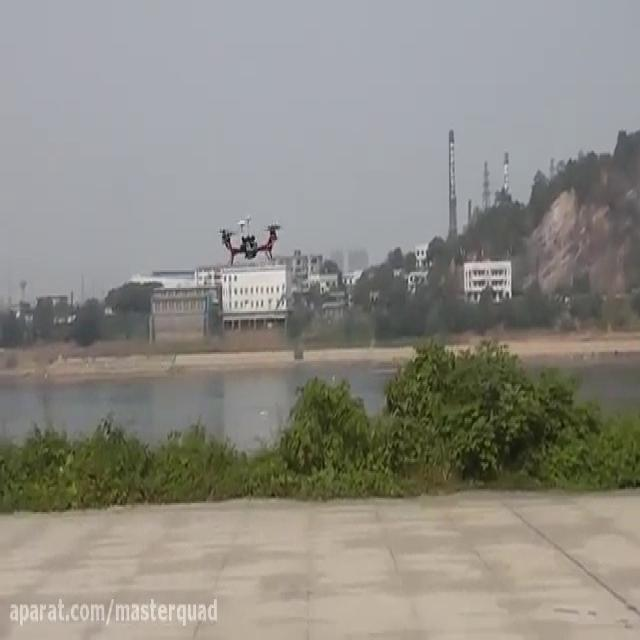drone: (214, 204, 285, 270)
